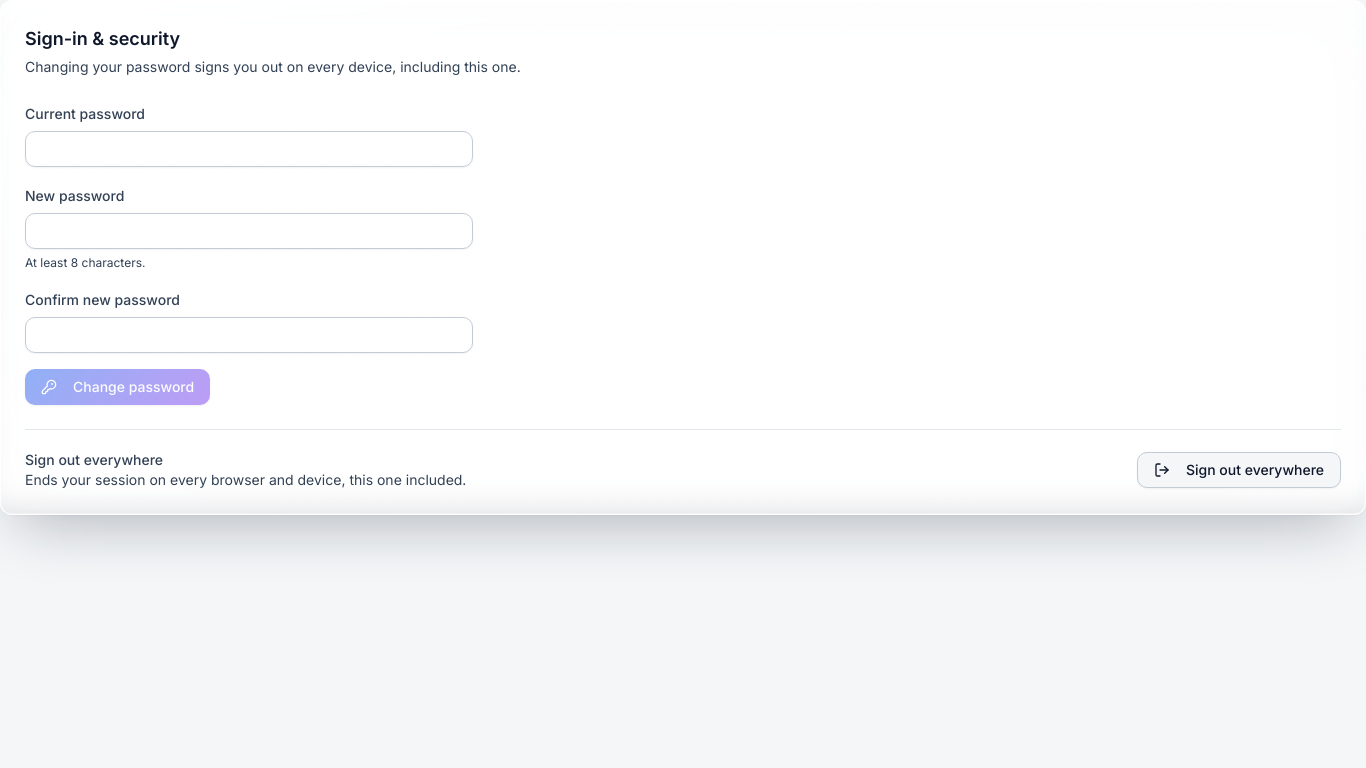
AccountSecurityCard › asks before signing out everywhere
This screenshot has width=1366, height=768.
What coordinates should you click on to do the following:
click the button "Sign out everywhere"
I would click on:
 (1239, 470)
Its box is left=1137, top=452, right=1341, bottom=488.
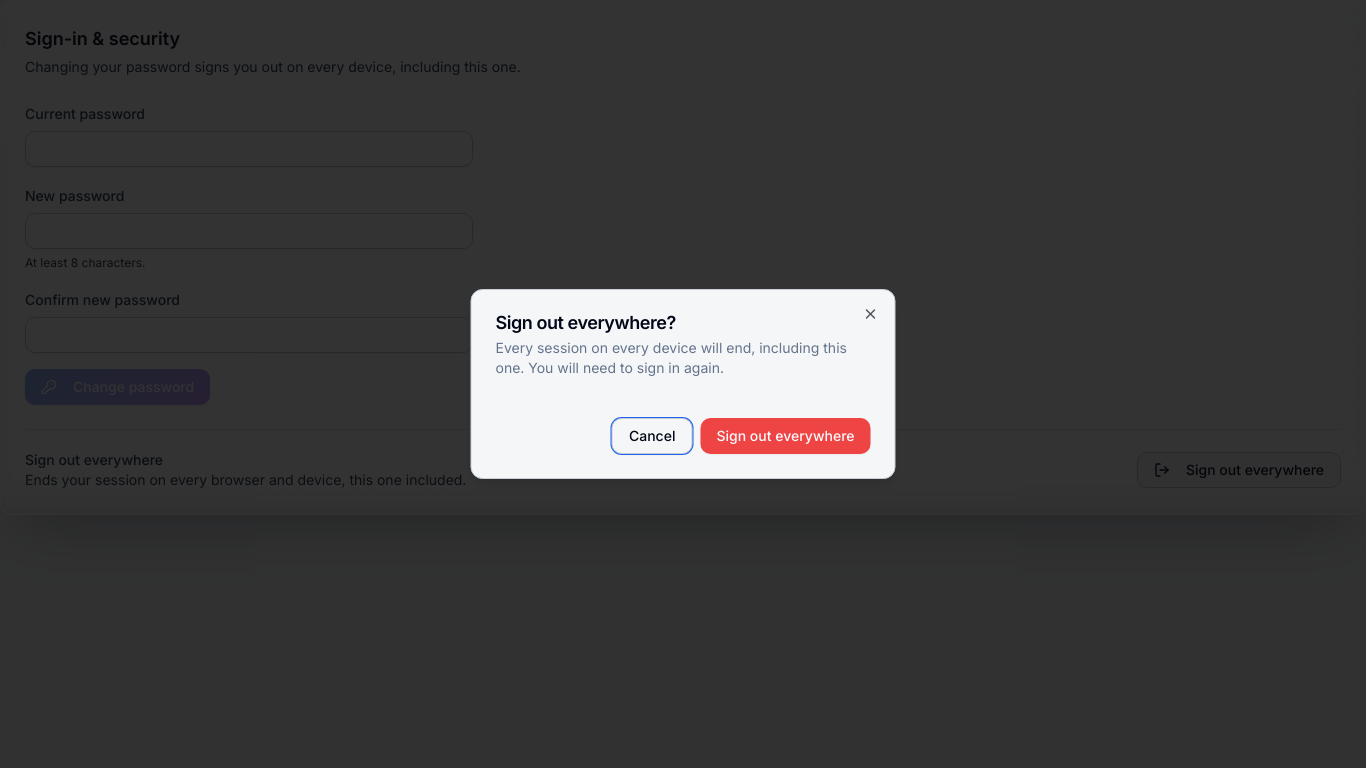
Check: the heading "Sign out everywhere?" is shown, box left=496, top=312, right=676, bottom=333
